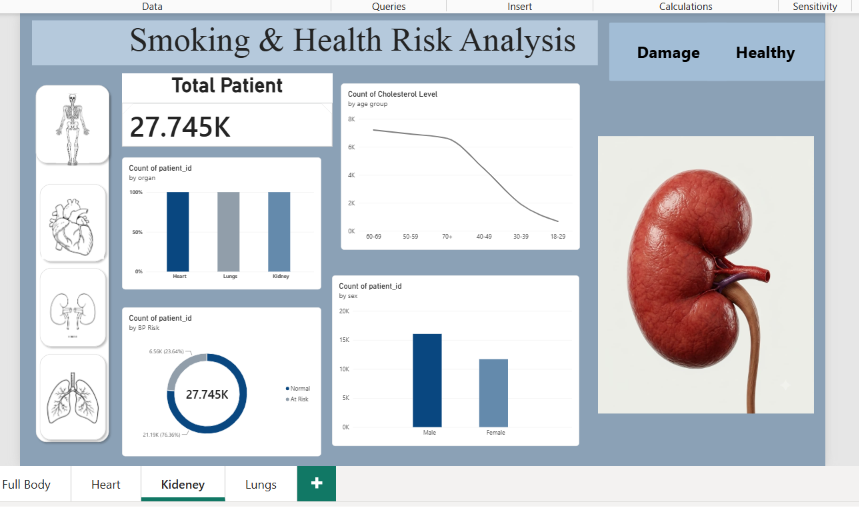

The page's visual inventory and layout, read from the dashboard file:
{"tool":"powerbi","page":{"name":"Kideney","canvas":[1920,1080],"ordinal":2},"visuals":[{"type":"actionButton","box":[27.5,167.5,192.5,865],"z":0},{"type":"actionButton","box":[37.5,397.5,175,202.5],"z":1000},{"type":"actionButton","box":[37.5,600,175,205],"z":2000},{"type":"actionButton","box":[37.5,805,175,222.5],"z":3000},{"type":"textbox","box":[27.5,17.5,1350,107.5],"z":4000},{"type":"cardVisual","title":"Total Patient","fields":{"Data":["Count(MODS_Clinical_3C_50K (3).patient_id)"]},"box":[242.5,142.5,502.5,175],"z":5000},{"type":"hundredPercentStackedColumnChart","fields":{"Category":["MODS_Clinical_3C_50K (3).organ"],"Y":["Count(MODS_Clinical_3C_50K (3).patient_id)"]},"box":[242.5,342.5,475,315],"z":6000},{"type":"donutChart","fields":{"Category":["MODS_Clinical_3C_50K (3).BP Risk"],"Y":["CountNonNull(MODS_Clinical_3C_50K (3).patient_id)"]},"box":[242.5,702.5,475,355],"z":7000},{"type":"lineChart","fields":{"Category":["MODS_Clinical_3C_50K (3).age group"],"Y":["CountNonNull(MODS_Clinical_3C_50K (3).Cholesterol Level)"]},"box":[765,167.5,570,397.5],"z":8000},{"type":"clusteredColumnChart","fields":{"Category":["MODS_Clinical_3C_50K (3).sex"],"Y":["Count(MODS_Clinical_3C_50K (3).patient_id)"]},"box":[745,625,590,407.5],"z":9000},{"type":"image","title":"healthy k.","box":[1378.1,190.5,515.4,866.1],"z":10000},{"type":"actionButton","box":[1405,21.3,283.4,140.2],"z":13000},{"type":"actionButton","box":[1636.6,21.3,283.4,140.2],"z":14000},{"type":"actionButton","box":[27.9,161.1,193.4,204.1],"z":15000}]}

Visuals, with their boxes on the page's 1920x1080 design canvas (x1, y1, x2, y2). These are canvas units, not pixel positions in the 859x507 screenshot, which may show the page scaled, cropped or inside an application window:
actionButton: detection(28, 168, 220, 1032)
actionButton: detection(38, 398, 212, 600)
actionButton: detection(38, 600, 212, 805)
actionButton: detection(38, 805, 212, 1028)
textbox: detection(28, 18, 1378, 125)
"Total Patient" cardVisual: detection(242, 142, 745, 318)
hundredPercentStackedColumnChart - MODS_Clinical_3C_50K (3).organ x Count(MODS_Clinical_3C_50K (3).patient_id): detection(242, 342, 718, 658)
donutChart - MODS_Clinical_3C_50K (3).BP Risk x CountNonNull(MODS_Clinical_3C_50K (3).patient_id): detection(242, 702, 718, 1058)
lineChart - MODS_Clinical_3C_50K (3).age group x CountNonNull(MODS_Clinical_3C_50K (3).Cholesterol Level): detection(765, 168, 1335, 565)
clusteredColumnChart - MODS_Clinical_3C_50K (3).sex x Count(MODS_Clinical_3C_50K (3).patient_id): detection(745, 625, 1335, 1032)
"healthy k." image: detection(1378, 190, 1894, 1057)
actionButton: detection(1405, 21, 1688, 162)
actionButton: detection(1637, 21, 1920, 162)
actionButton: detection(28, 161, 221, 365)
